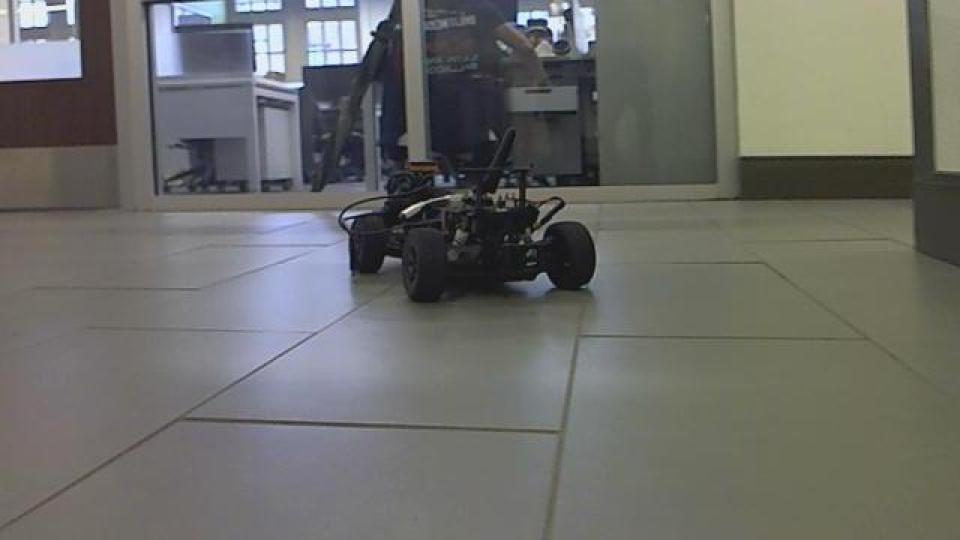car: (334, 124, 599, 304)
